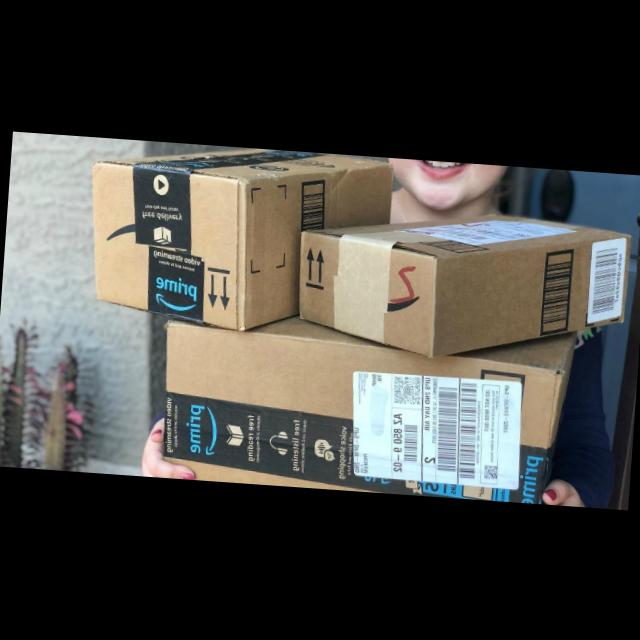box: (154, 304, 578, 505), (92, 138, 396, 342), (291, 200, 632, 372)
